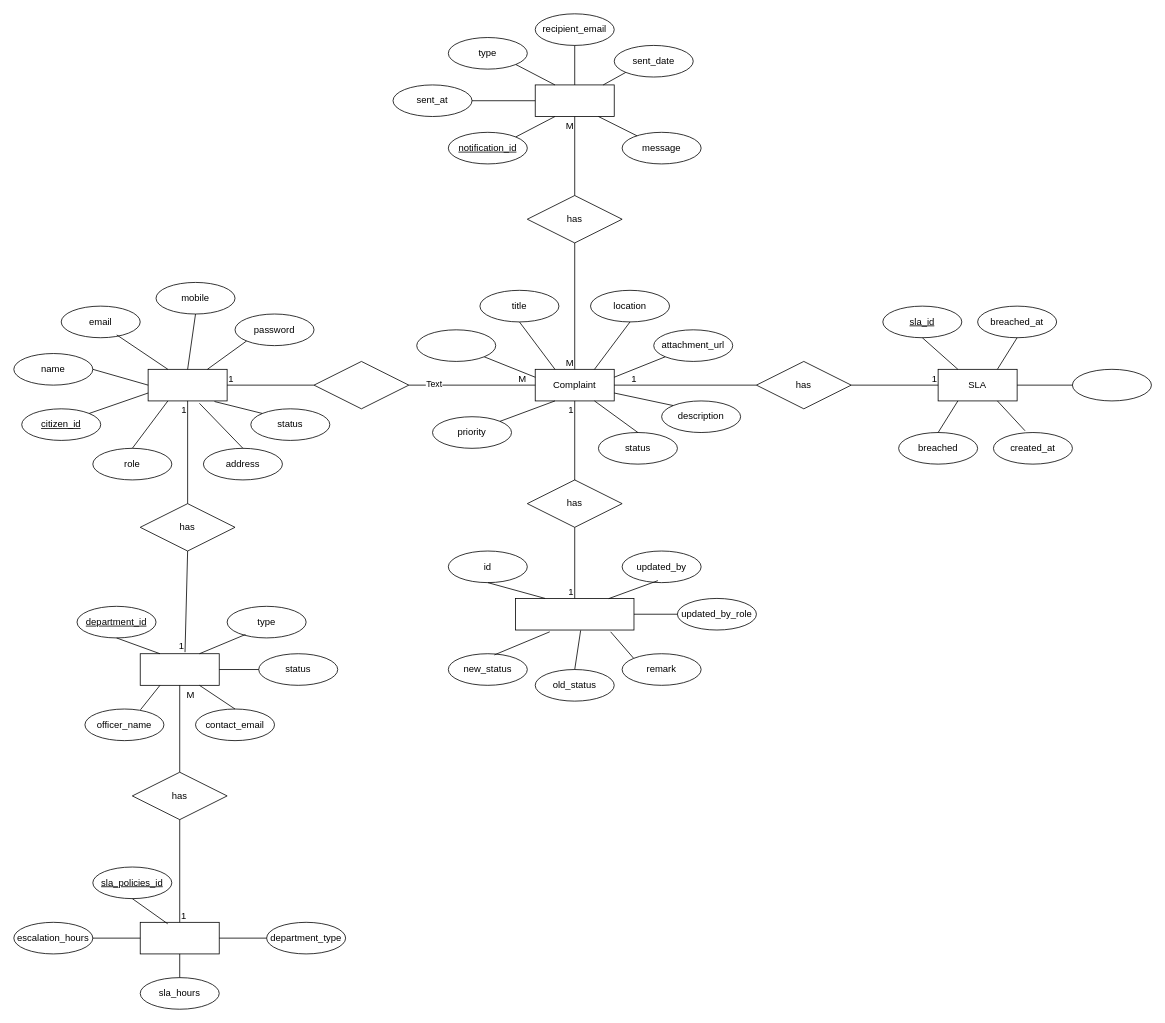
The diagram is 1165 pixels wide and 1023 high, and some of its shapes have lost their labels. The shapes that lost their labels are listed below. From the top down, each one's centre as x and y in pixels, then its label:
At (574,100): "Notifications".
At (456,345): "complaint_id".
At (187,385): "citizen/officers".
At (361,385): "makes".
At (1111,385): "deadline".
At (574,614): "ComplaintsUpdates".
At (179,669): "Department".
At (179,938): "SLA Policies".
